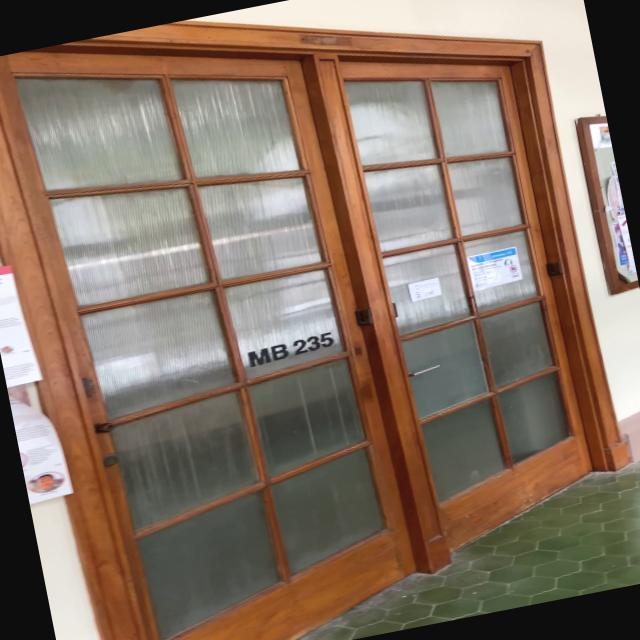room235Window: (242, 327, 341, 370)
